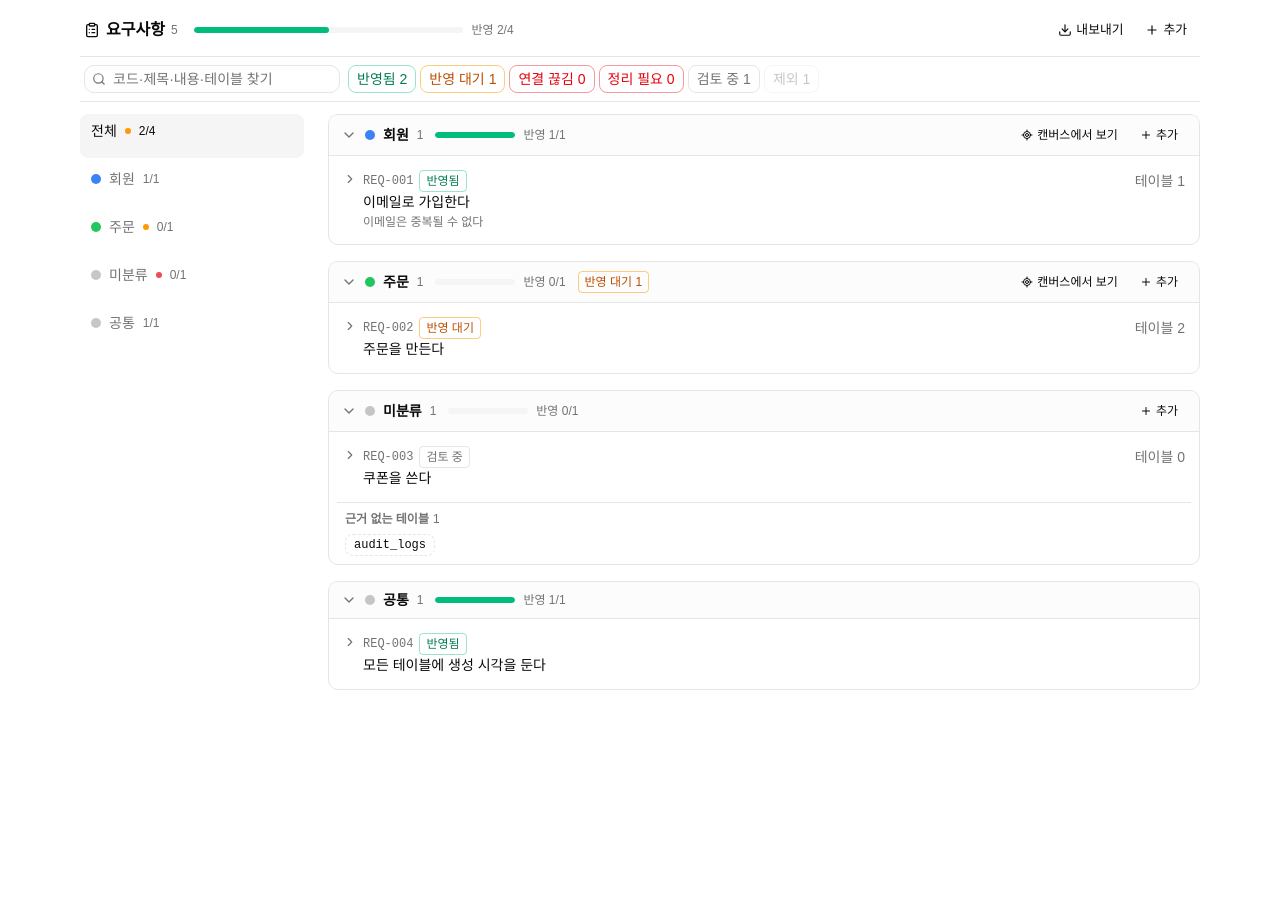
Test: RequirementsPanel › 필터 칩으로 판정을 걸러 본다
Expected: the button with test id "requirement-filter-PENDING" reads "반영 대기 1", [420,65,505,93]
Click the button with test id "requirement-filter-DROPPED": click(792, 79) [764,65,819,93]
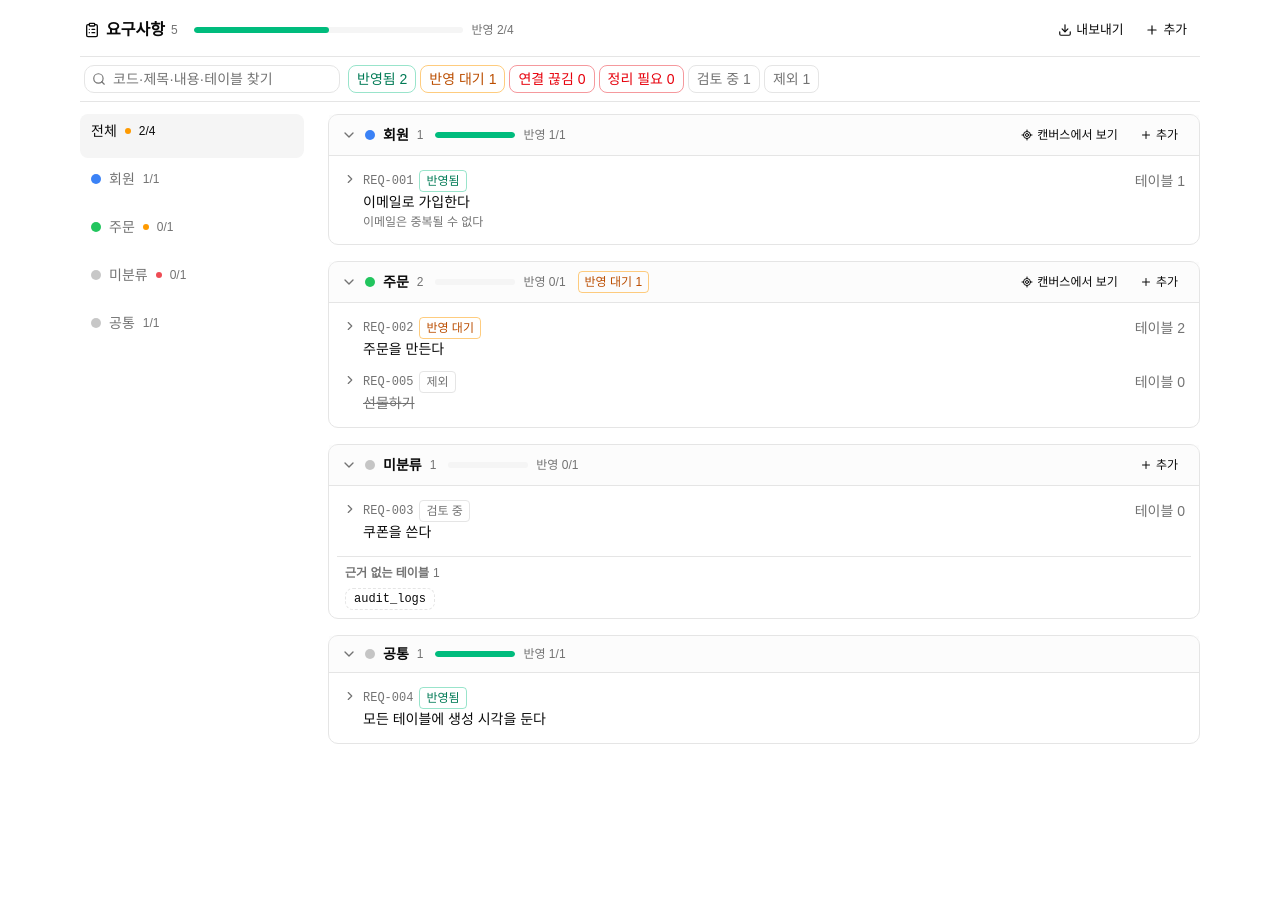
Expected: the text "선물하기" is shown, [363,395,414,411]
Click the button with test id "requirement-filter-APPLIED": click(382, 79) [348,65,416,93]
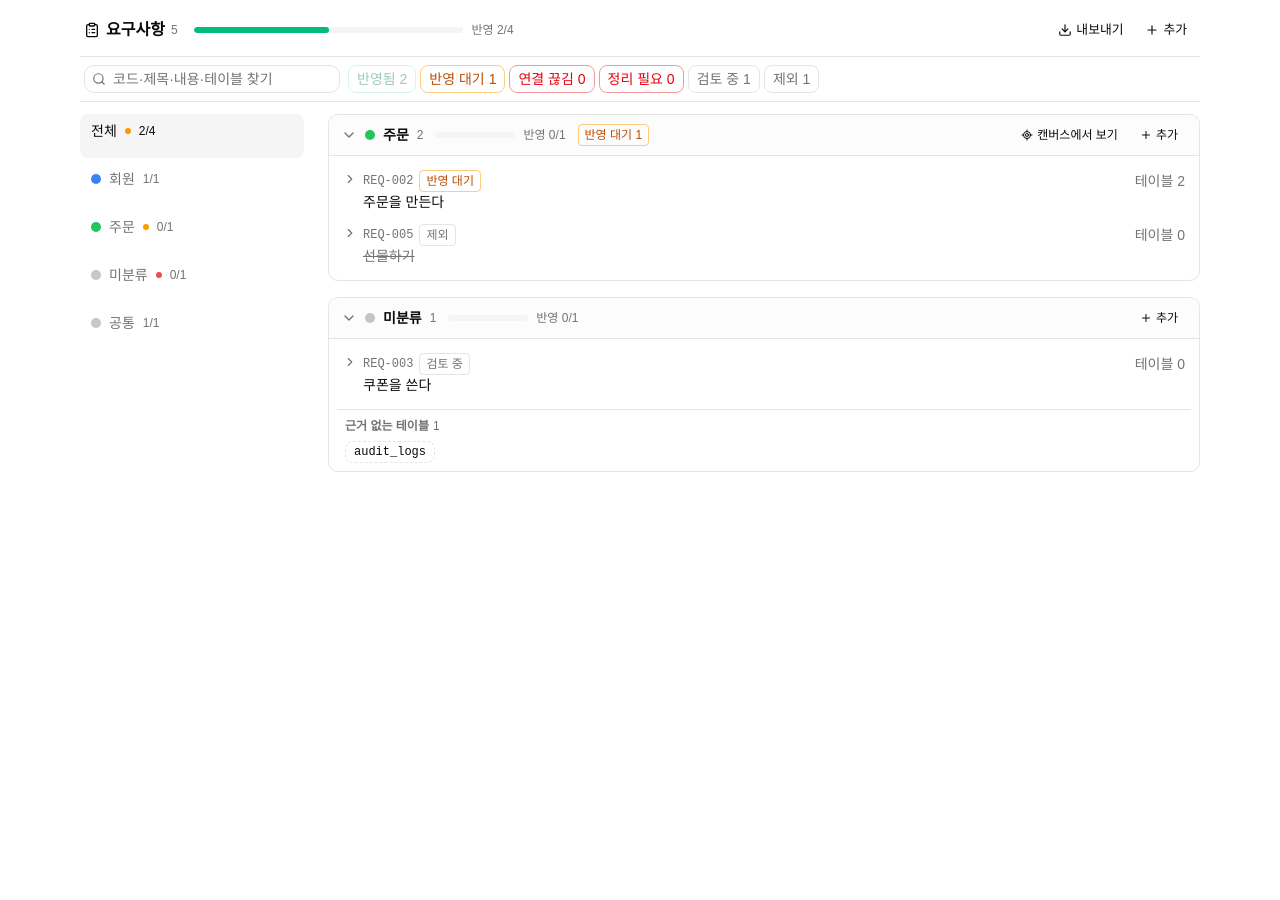
Expected: the button "이메일로 가입한다" is gone
